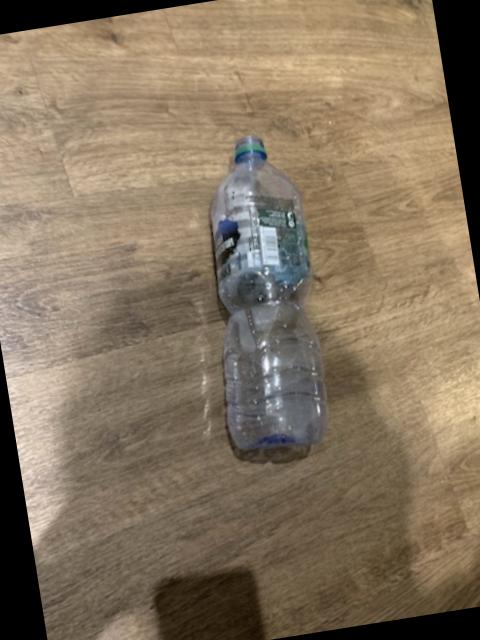plastic: (212, 134, 328, 447)
